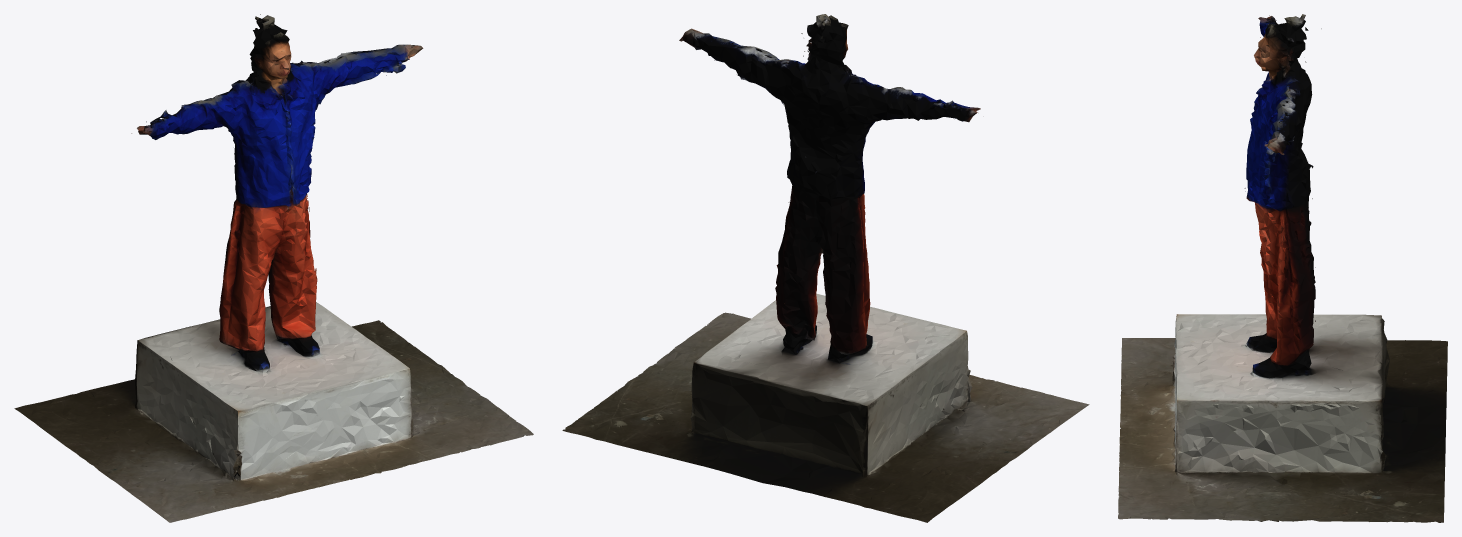
Rendered from Lorenzo.glb.
3 renders of one model, left to right at view 1: azimuth 30°, elevation 25°; view 2: azimuth 150°, elevation 25°; view 3: azimuth 270°, elevation 25°, orthographic. The views are drawn at different scales.
Visible parts, largest first — view 1: modele 3d Tpose LorenzoTenueBleuOrange; view 2: modele 3d Tpose LorenzoTenueBleuOrange; view 3: modele 3d Tpose LorenzoTenueBleuOrange.
Part boxes in pixels (x1,y1,x2,y2): modele 3d Tpose LorenzoTenueBleuOrange: (14, 14, 533, 522); modele 3d Tpose LorenzoTenueBleuOrange: (562, 14, 1089, 522); modele 3d Tpose LorenzoTenueBleuOrange: (1118, 14, 1447, 522).
Bounding box in the file's own units: 4.11 × 4.37 × 3.12.
1 material, 1 textured.
